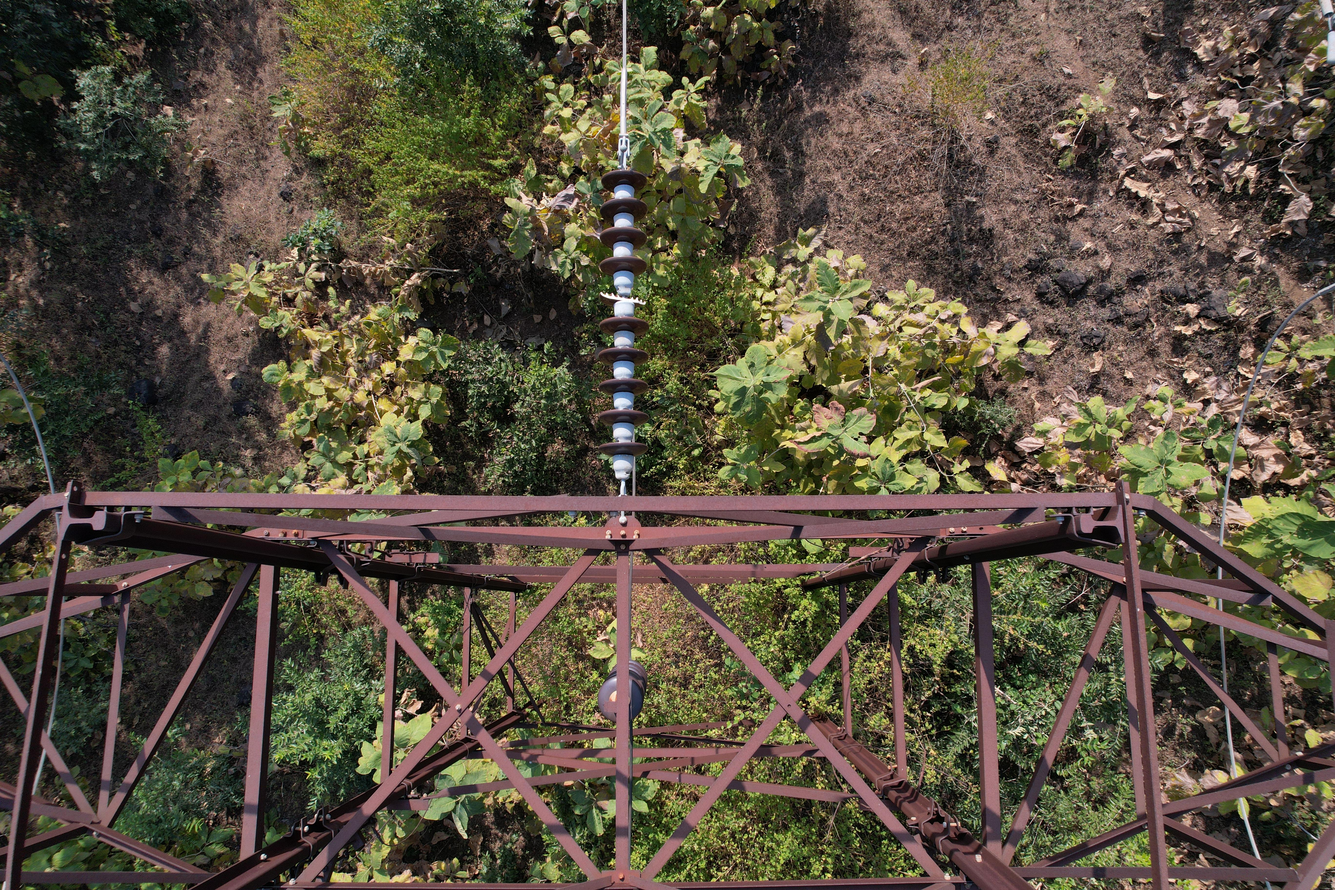broken_insulator: (597, 287, 649, 311)
